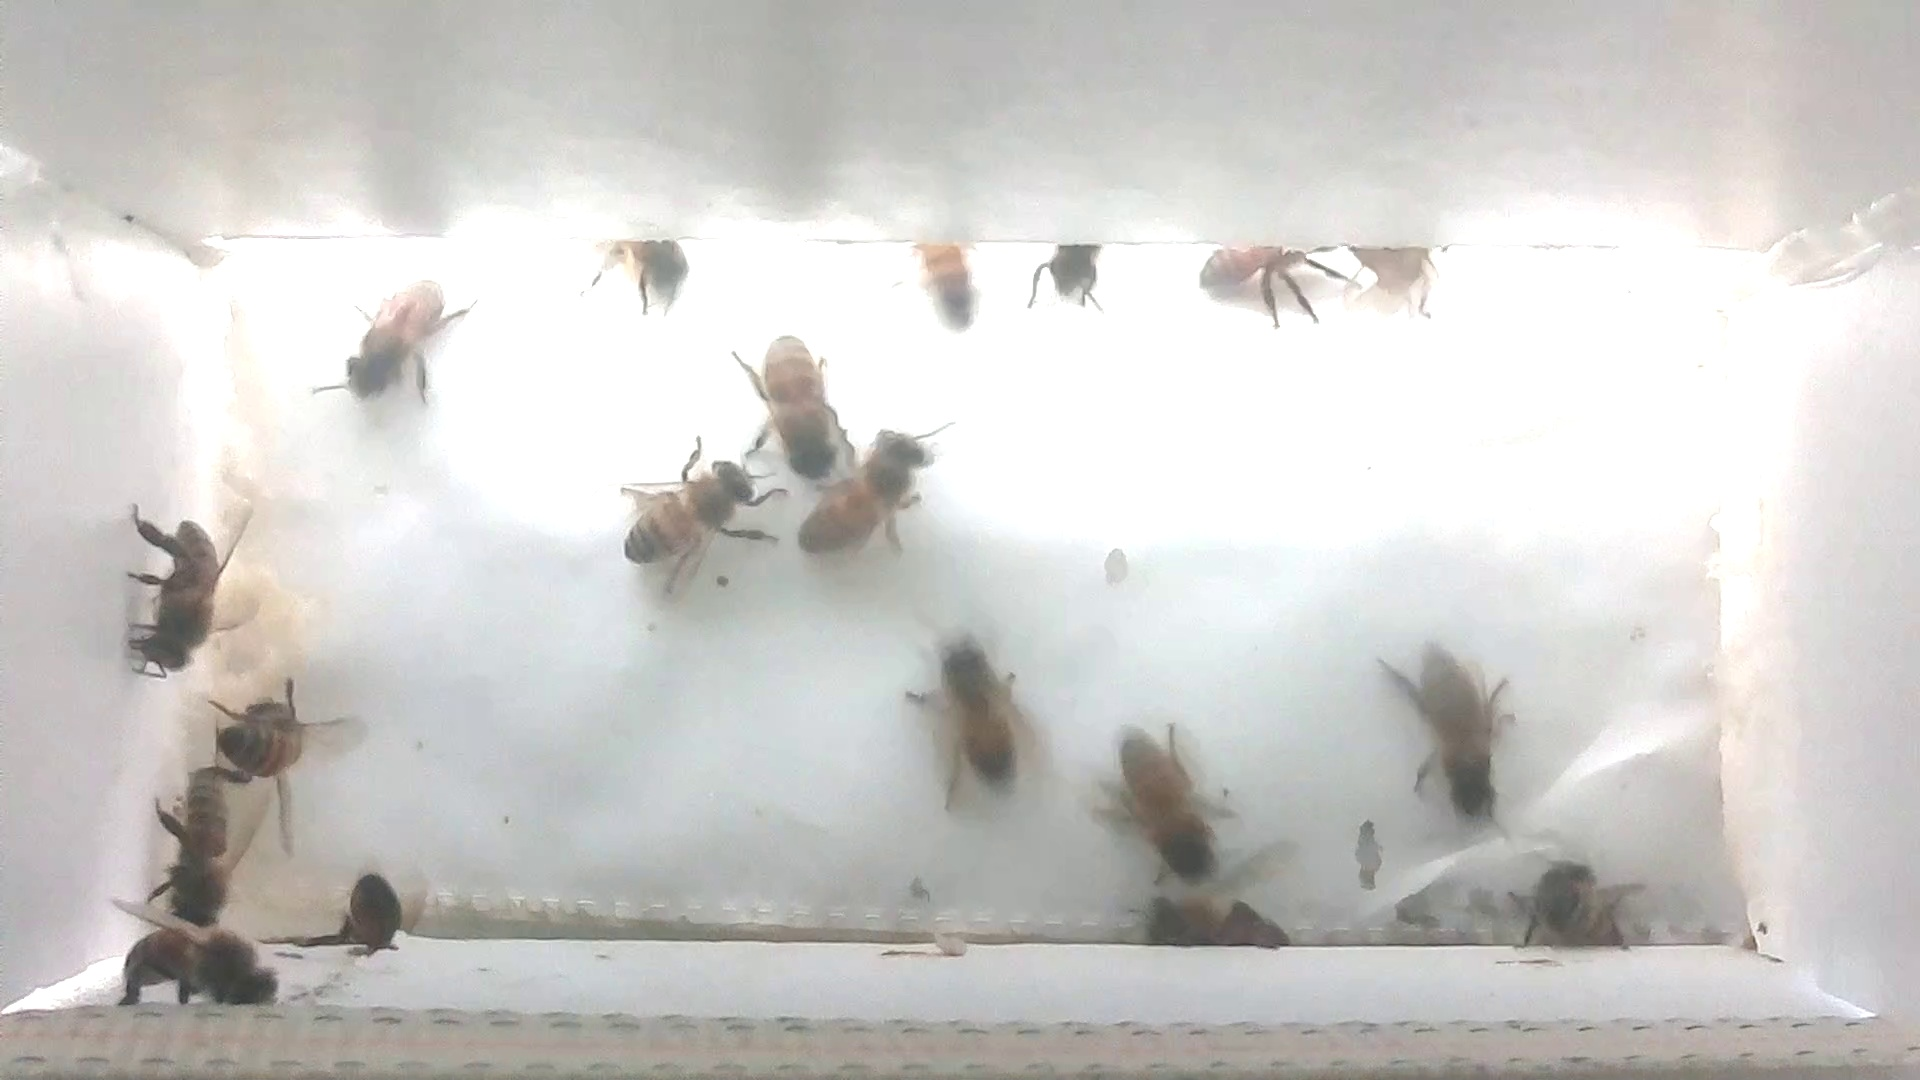bee: (585, 421, 800, 596), (1364, 616, 1523, 831), (105, 479, 273, 683), (76, 873, 294, 1021), (765, 404, 956, 566), (1079, 709, 1240, 898), (199, 661, 371, 831), (295, 260, 485, 411), (898, 626, 1051, 814), (1188, 204, 1375, 342), (725, 313, 864, 481), (141, 756, 255, 931), (1509, 841, 1658, 961), (874, 222, 993, 345), (582, 216, 709, 323), (1015, 210, 1126, 331), (320, 848, 425, 957), (1349, 231, 1468, 324), (1166, 889, 1294, 956)
